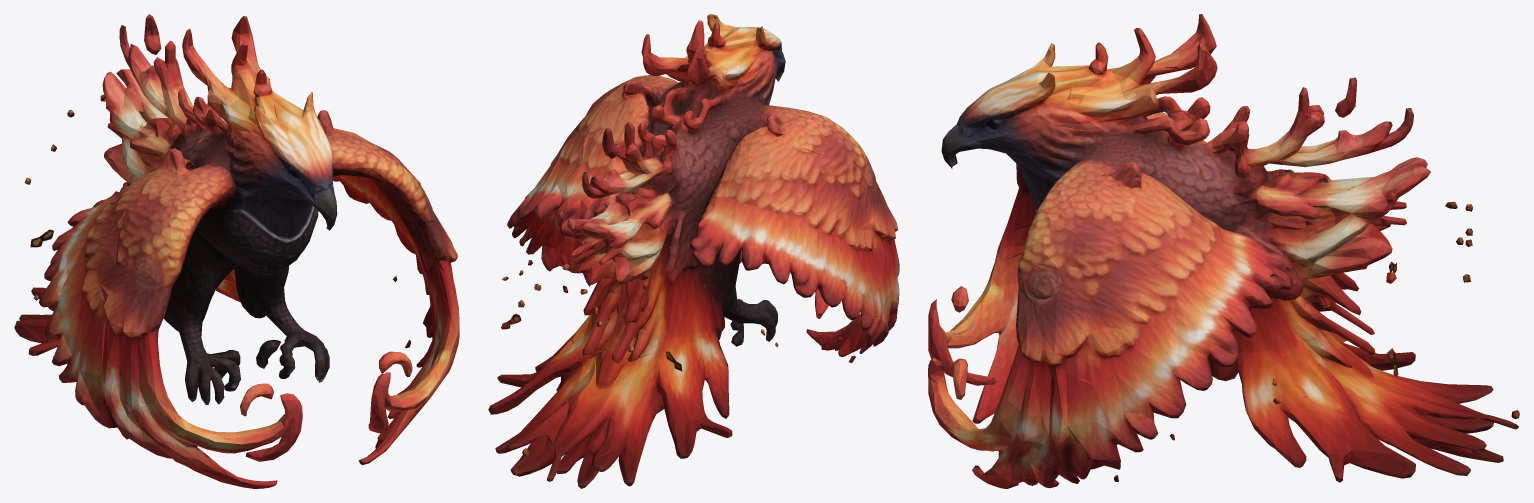
Rendered from emberhawk.glb.
3 views of the same model, side by side, from view 1: azimuth 30°, elevation 25°; view 2: azimuth 150°, elevation 25°; view 3: azimuth 270°, elevation 25° (orthographic). The views are drawn at different scales.
Parts seen in each view (by area): view 1: world; view 2: world; view 3: world.
Part boxes in pixels (box(x1,y1,x2,y2)): world: box(14, 14, 459, 488); world: box(488, 14, 899, 488); world: box(928, 14, 1519, 488).
Size of the model in its own units: 0.8101 by 0.7869 by 0.9988.
Materials: 1 (1 with a texture image).
